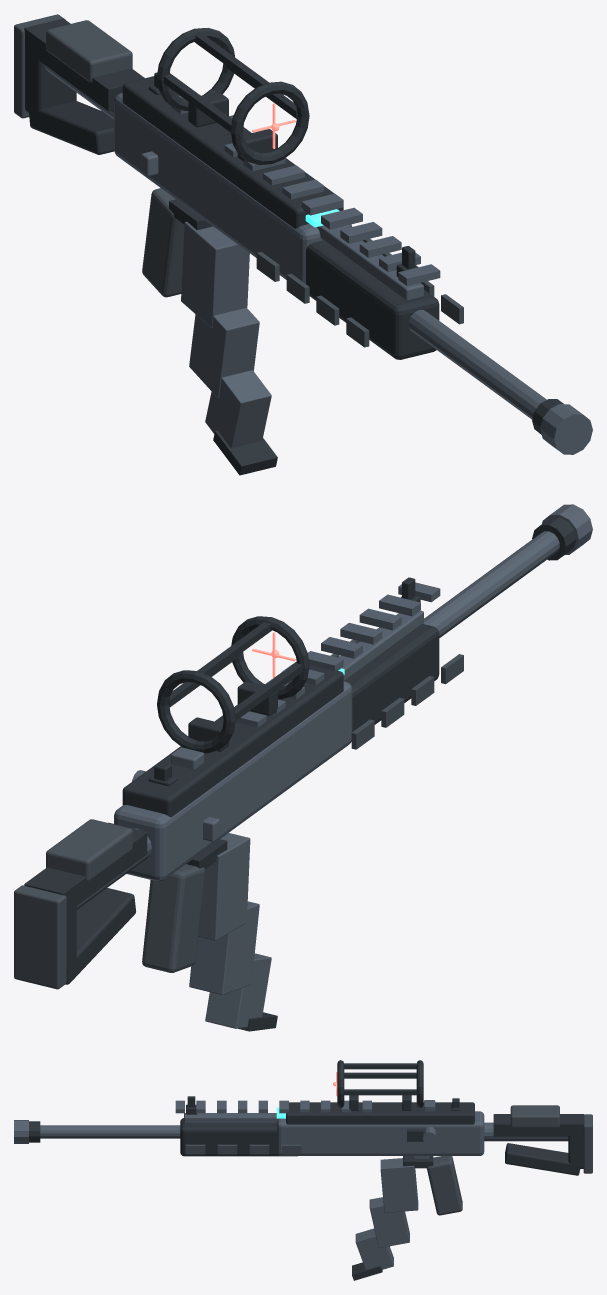
The model's file is arma_rifle.glb.
3 views of the same model, one above another, from view 1: azimuth 30°, elevation 25°; view 2: azimuth 150°, elevation 25°; view 3: azimuth 270°, elevation 25° (orthographic). The views are drawn at different scales.
Parts seen in each view (by area): view 1: arma_rifle; view 2: arma_rifle; view 3: arma_rifle.
Part boxes in pixels (x1,y1,x2,y2): arma_rifle: [14, 14, 592, 475]; arma_rifle: [14, 504, 592, 1031]; arma_rifle: [14, 1060, 592, 1280].
Bounding box in the file's own units: 0.0891 × 0.3385 × 0.83.
